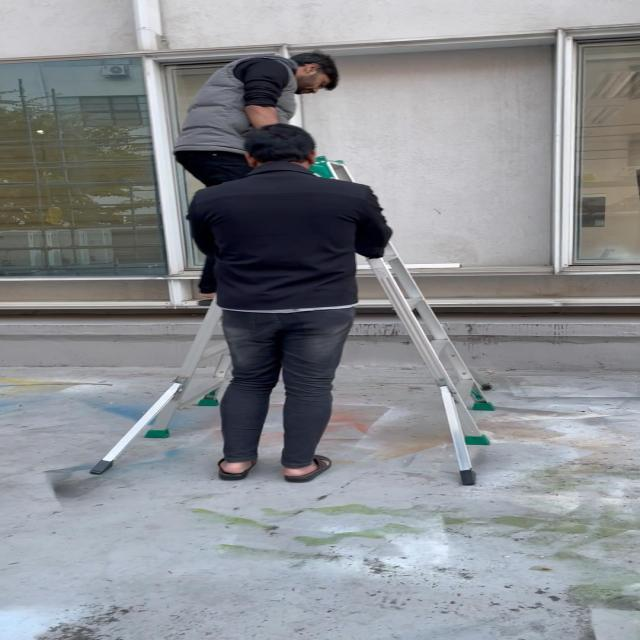boots: (87, 162, 501, 488)
vest: (188, 122, 388, 480), (174, 50, 340, 306)
